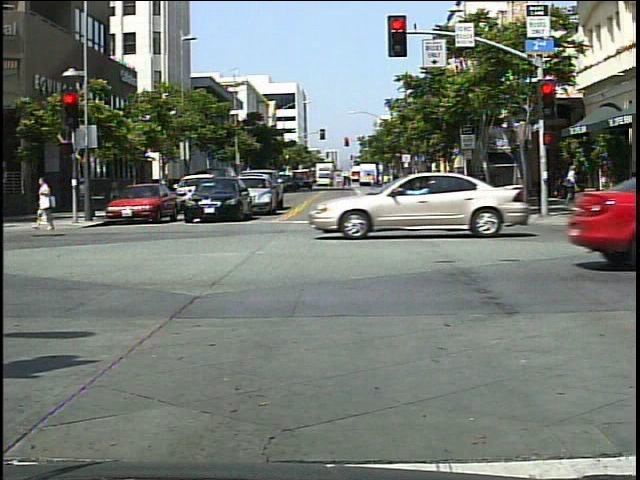person: (32, 171, 63, 235), (560, 161, 584, 212)
